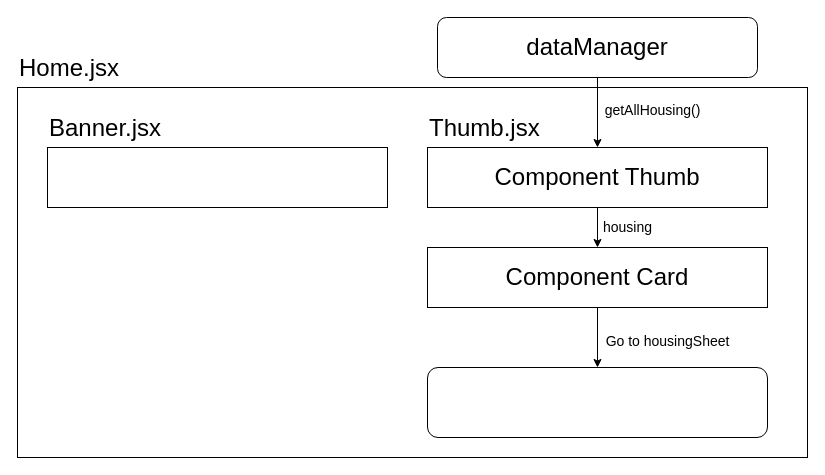
The diagram is 825 pixels wide and 475 high, and some of its shapes have lost their labels. The shapes that lost their labels are listed below. From the top down, each one's centre as x and y in pixels, then its label:
the point at 217,177: Component Banner
the point at 597,402: < NavLink to = { `/fiche-logement/ ${ housing . id } ` } >
